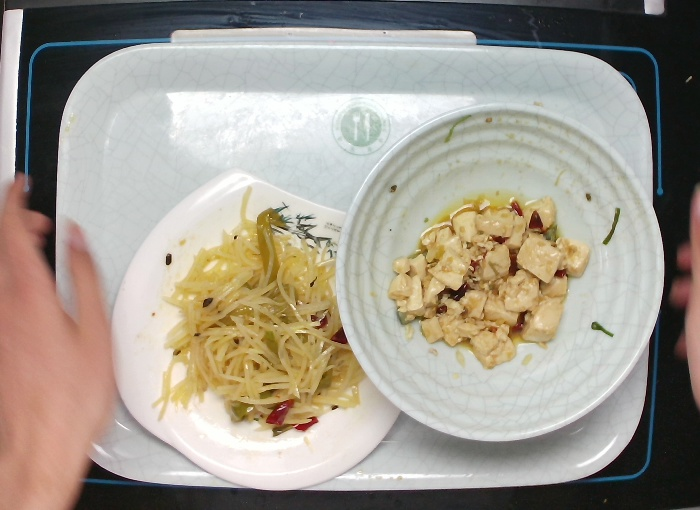JYsf-Da_Tang_Wan: (331, 99, 674, 449)
JYsf-Mian_Pan: (100, 167, 415, 495)
